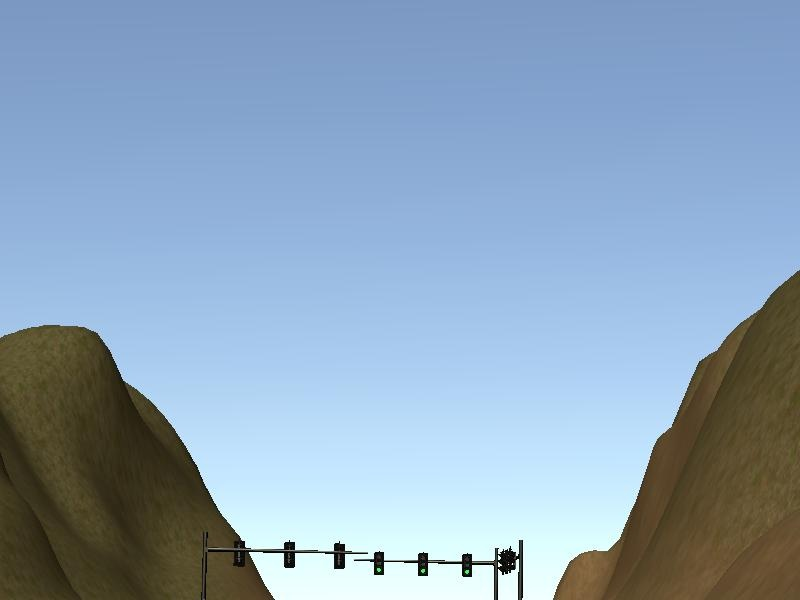green: (373, 550, 386, 576), (417, 551, 429, 576), (461, 554, 473, 578)
